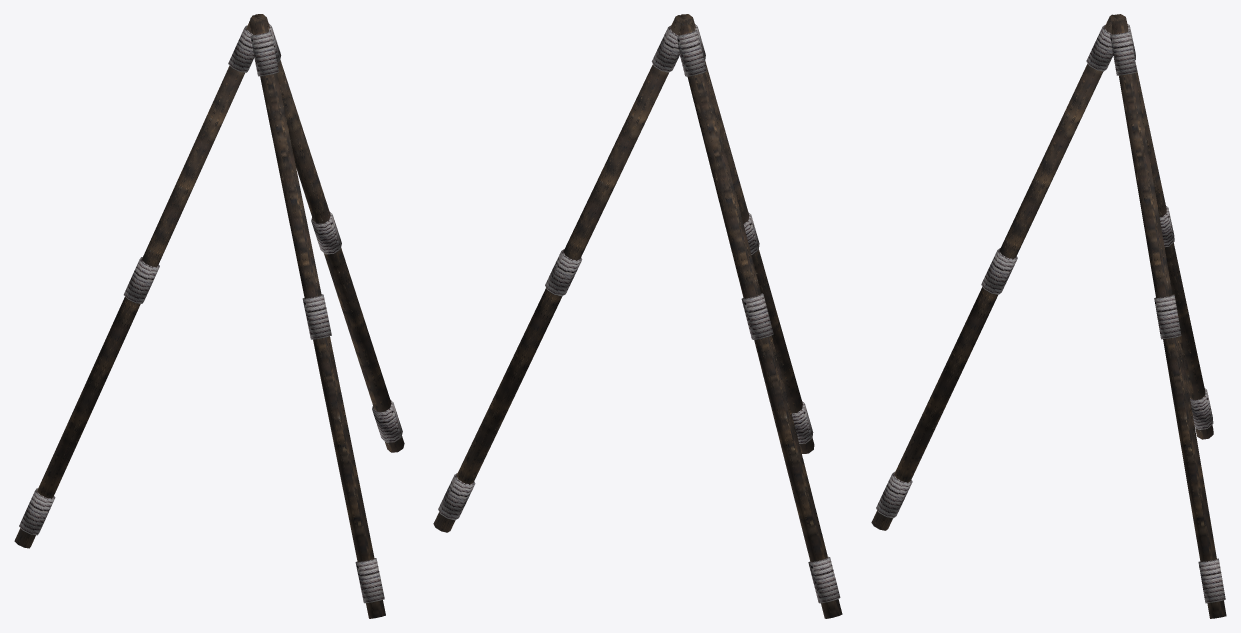
File: Stick4.fbx
3 views of the same model, side by side, from view 1: azimuth 30°, elevation 25°; view 2: azimuth 150°, elevation 25°; view 3: azimuth 270°, elevation 25° (orthographic).
Visible parts, largest first — view 1: Cylinder.007; view 2: Cylinder.007; view 3: Cylinder.007.
Part boxes in pixels (x1,y1,x2,y2): Cylinder.007: (14, 14, 404, 618); Cylinder.007: (433, 14, 842, 618); Cylinder.007: (871, 14, 1226, 618).
Bounding box in the file's own units: 538 × 674 × 423.
